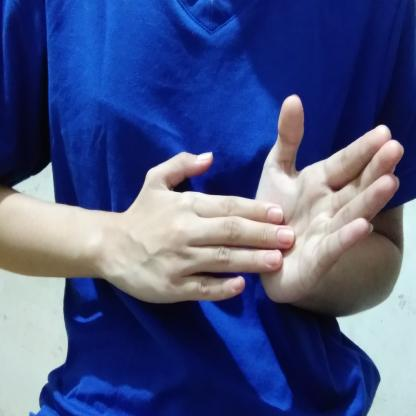mother: (103, 92, 406, 312)
